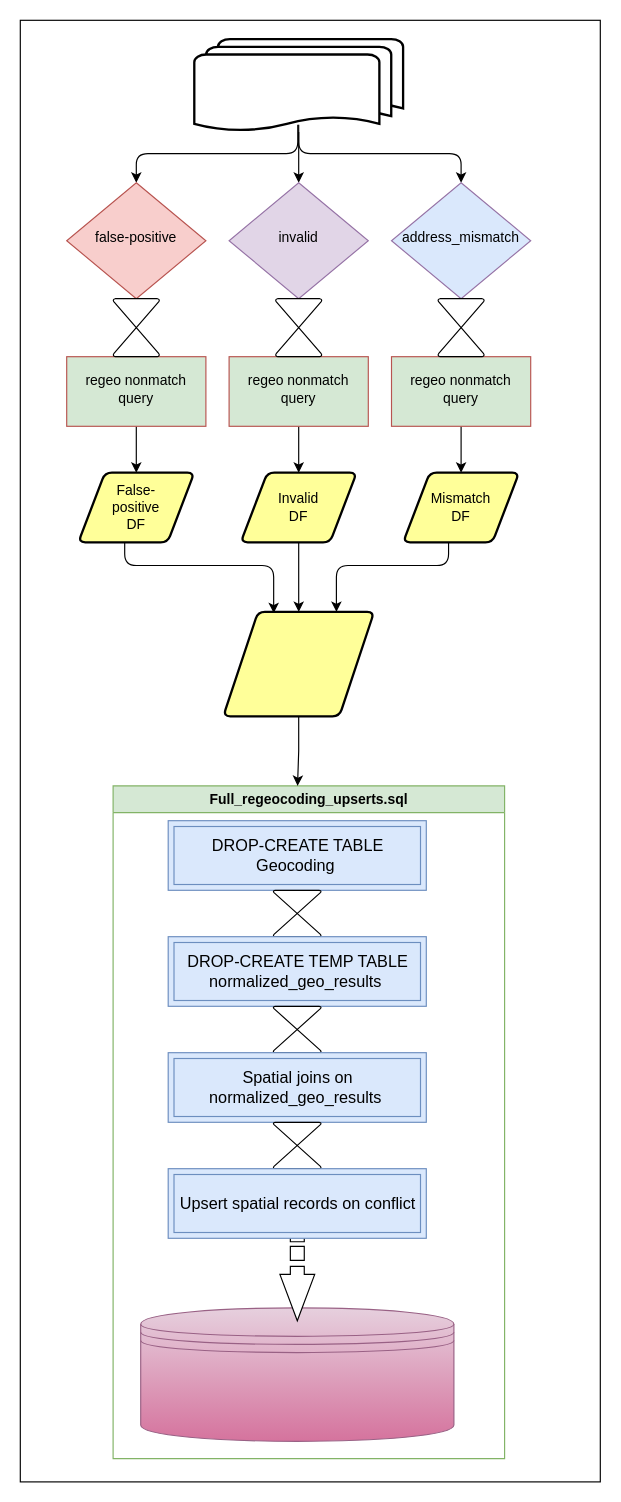
This 621x1502 diagram has some shape labels left out. The shapes that lost their labels are listed below. From the top down, each one's box as (x1, y1, x2, y2) in pixels, then its label:
(193, 37, 404, 132): Regeocoding Queries
(222, 610, 375, 717): Begin geocoding
(140, 1307, 454, 1441): <geocoder>lac_master_address_spatial
